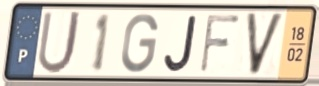1: (92, 11, 112, 75)
F: (197, 12, 243, 76)
G: (119, 11, 161, 75)
J: (163, 14, 200, 75)
U: (35, 8, 84, 76)
V: (244, 11, 287, 79)
